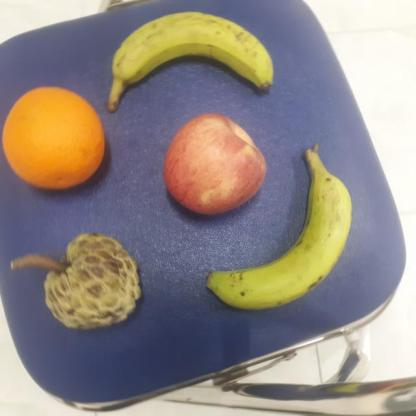annona: (42, 230, 142, 337)
apple: (160, 112, 268, 218)
banana: (208, 149, 355, 310), (109, 9, 275, 111)
orange: (2, 84, 106, 194)
